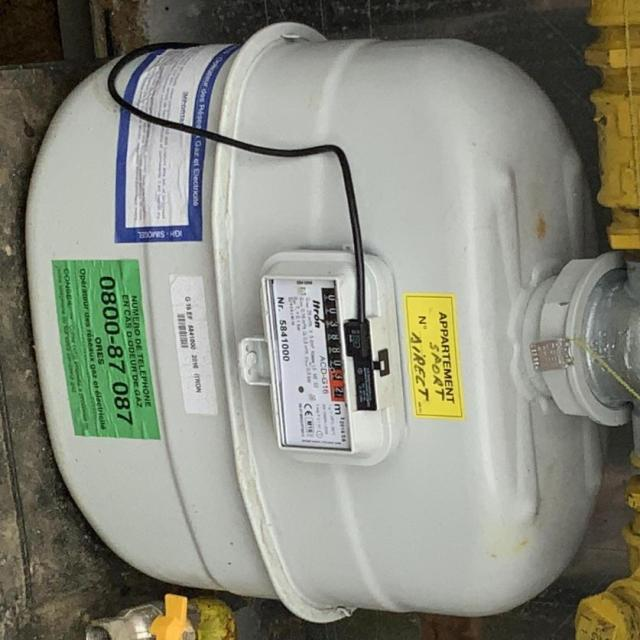gaz_meter: (263, 276, 357, 458)
indication: (318, 284, 348, 404)
